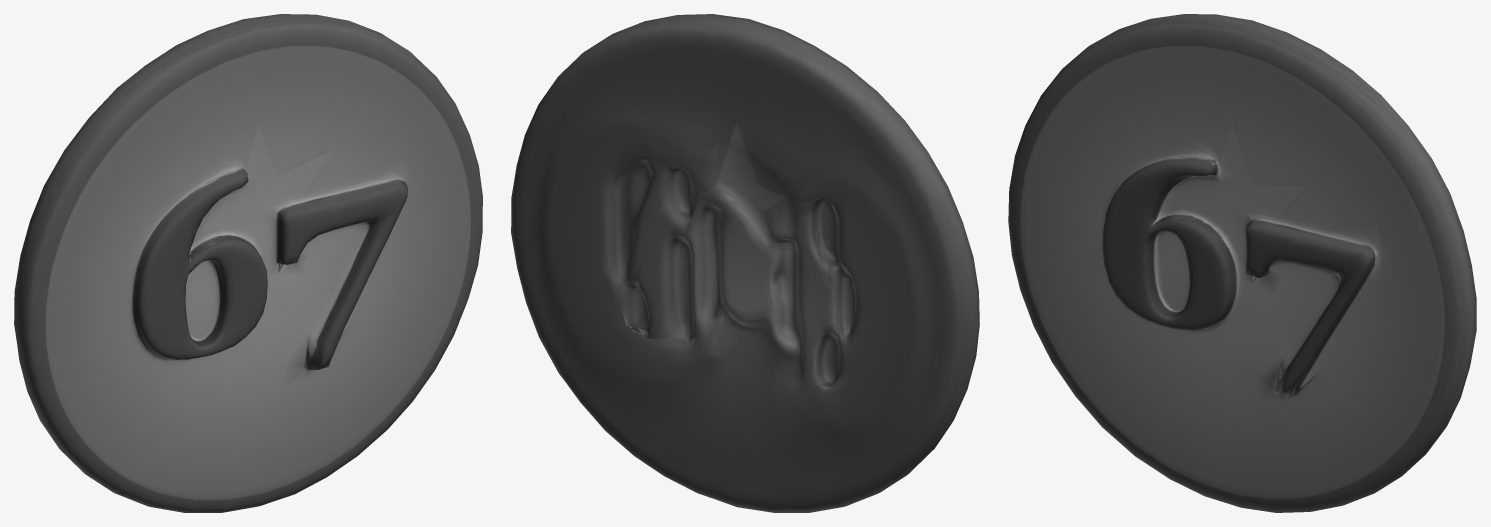
Rendered from ground-coin-3d-image-silver.glb.
3 renders of one model, left to right at view 1: azimuth 30°, elevation 25°; view 2: azimuth 150°, elevation 25°; view 3: azimuth 330°, elevation 25°, orthographic.
Bounding box in the file's own units: 1.91 × 1.92 × 0.2279.
1 material, 1 textured.
